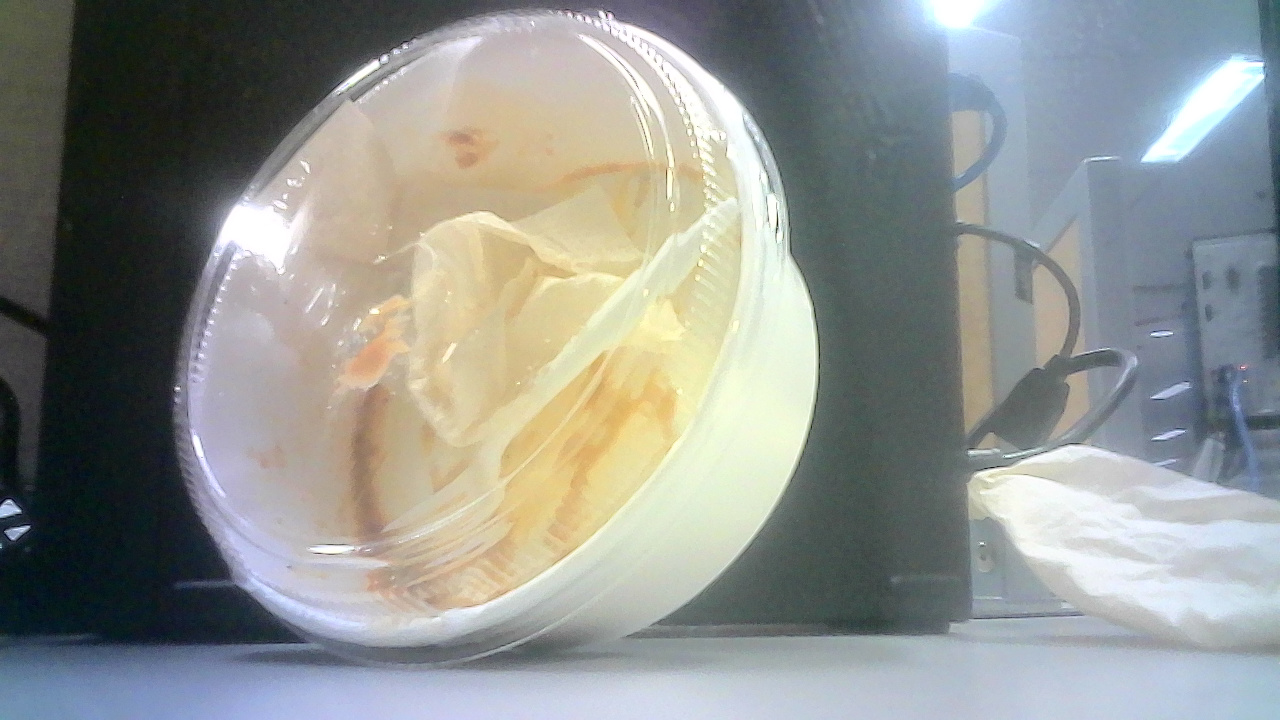Undefined_Waste: (150, 48, 854, 684)
